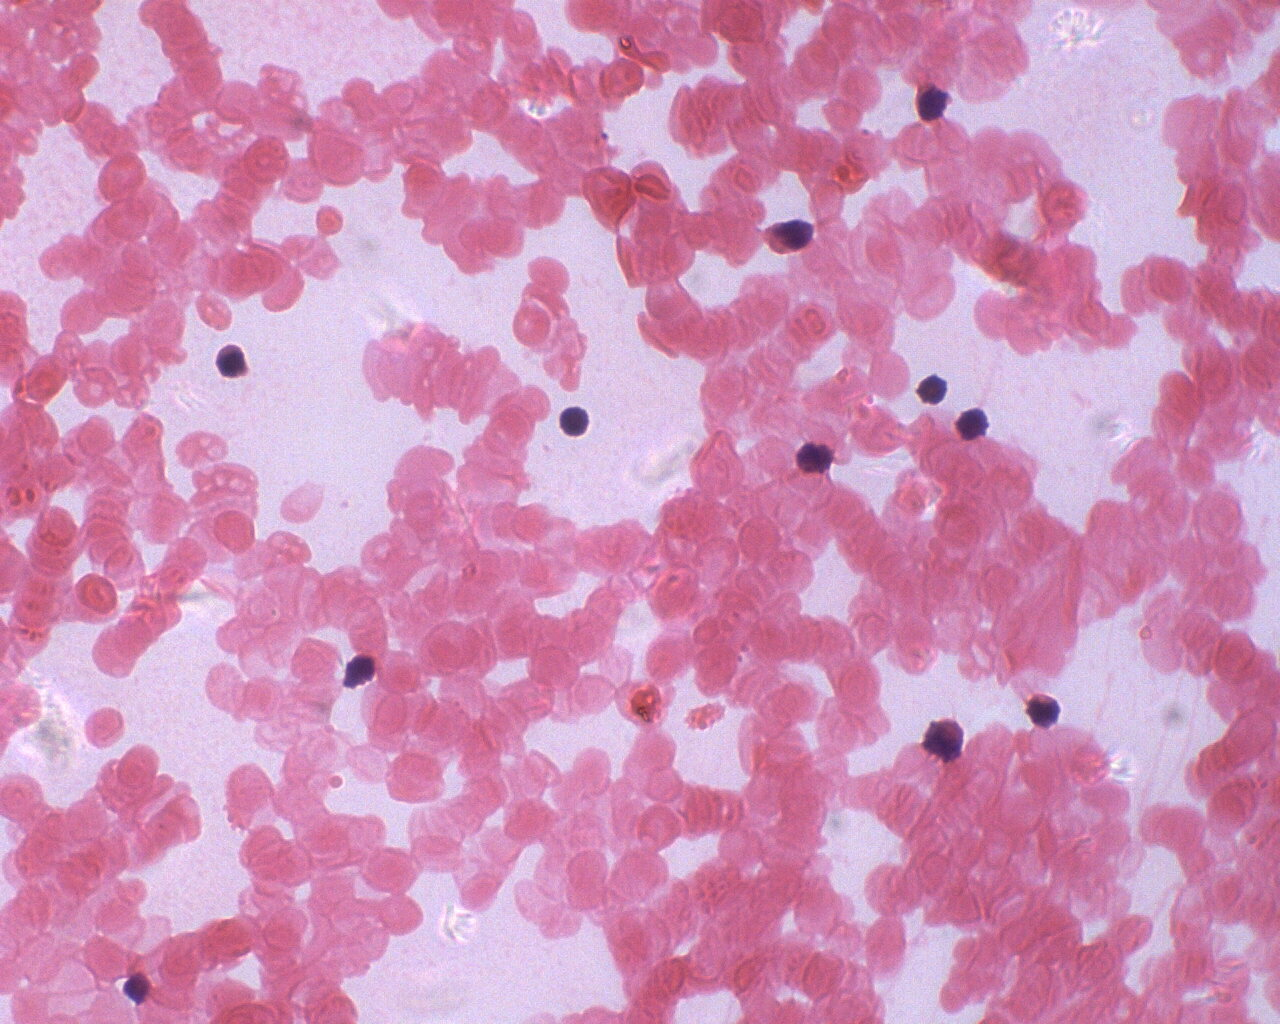lymph: (210, 338, 253, 383), (913, 82, 955, 123), (910, 369, 952, 405), (555, 403, 595, 439)
